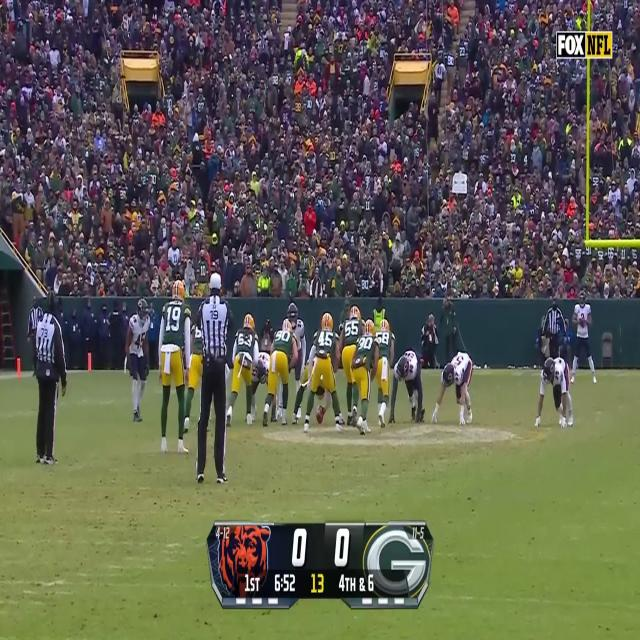Player: (158, 281, 192, 453), (226, 312, 260, 428), (338, 305, 366, 429), (126, 296, 153, 424), (310, 312, 338, 432), (268, 317, 294, 428), (439, 350, 474, 424), (538, 357, 574, 428), (570, 290, 597, 384), (354, 318, 375, 434), (390, 350, 422, 420), (375, 319, 392, 426), (190, 311, 202, 426), (291, 302, 305, 346)
Referee: (191, 271, 235, 486), (30, 288, 68, 466), (542, 297, 567, 358)
